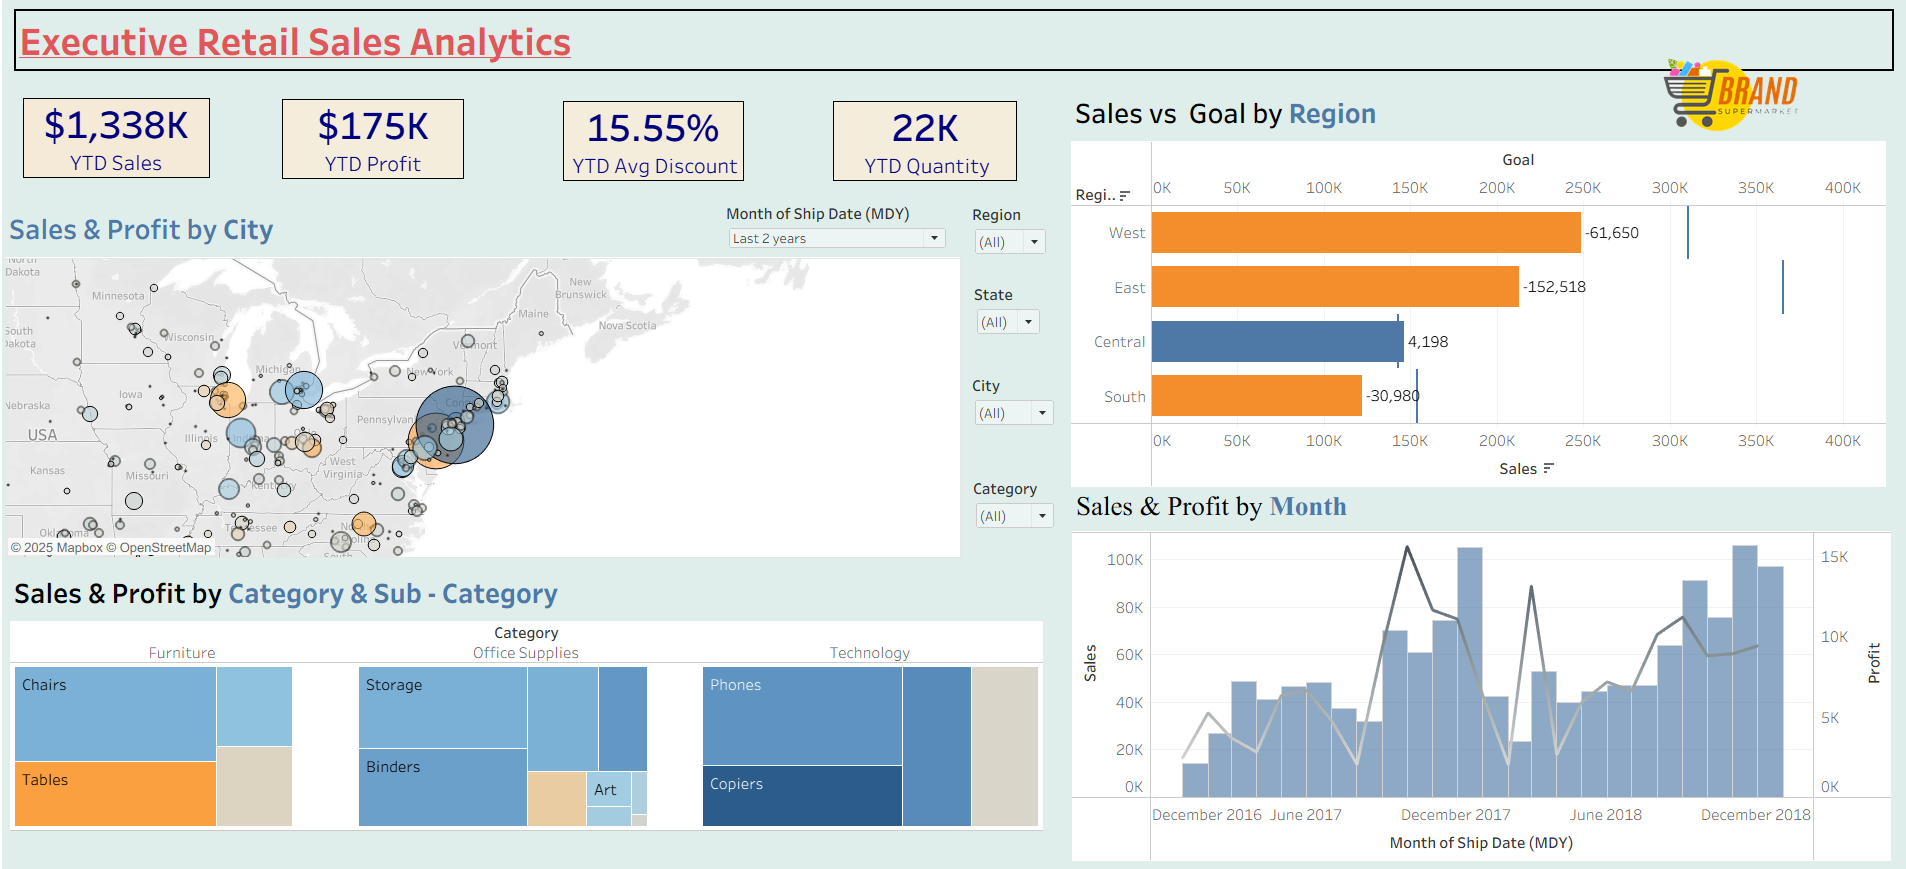

Layout of this report page (visuals, bound fields, positions):
{"tool":"tableau","page":{"name":"Dashboard 1","canvas":[1000,1000],"units":"permille","ordinal":0},"visuals":[{"type":"title","box":[4.8,10,990.3,87.4]},{"type":"image","param":"Image/supermarket-logo-template-with-shopping-cart_23-[number redacted].png","box":[826.8,13.7,163.6,194.8]},{"type":"worksheet","title":"Sales vs  Goal by Region","mark":"Automatic","rows":["Region"],"cols":["Sales","Goal"],"box":[561.3,106.1,428.5,453.2]},{"type":"worksheet","title":"Sheet 6","mark":"Automatic","box":[10.9,114.9,113.5,112.4]},{"type":"worksheet","title":"Sheet 6 (2)","mark":"Automatic","box":[147.2,116.1,111,103.6]},{"type":"worksheet","title":"YTD Avg Discound","mark":"Automatic","box":[294.5,118.6,109.8,101.1]},{"type":"worksheet","title":"Sheet 6 (3)","mark":"Automatic","box":[436.3,118.6,112.9,107.4]},{"type":"filter","title":"Sales & Profit by Month","param":"[federated.0hnb2jl033wxgv19xz3st11ub5jo].[tmn:Ship Date (MDY):qk]","box":[380.2,234.7,117.1,99.9]},{"type":"filter","title":"Sales vs  Goal by Region","param":"[federated.0hnb2jl033wxgv19xz3st11ub5jo].[none:Region:nk]","box":[509.4,236,40.4,79.9]},{"type":"worksheet","title":"Sales & Profit by City","mark":"Automatic","box":[1.8,238.5,502.1,402]},{"type":"filter","title":"Sales & Profit by City","param":"[federated.0hnb2jl033wxgv19xz3st11ub5jo].[none:State:nk]","box":[510.6,327.1,36.2,81.2]},{"type":"filter","title":"Sales & Profit by City","param":"[federated.0hnb2jl033wxgv19xz3st11ub5jo].[none:City:nk]","box":[509.4,432,44.7,92.4]},{"type":"filter","title":"Sales & Profit by Category & Sub - Category","param":"[federated.0hnb2jl033wxgv19xz3st11ub5jo].[none:Category:nk]","box":[510,549.3,44.1,94.9]},{"type":"worksheet","title":"Sales & Profit by Month","mark":"Automatic","rows":["Sales","Profit"],"cols":["Ship Date (MDY)"],"box":[561.9,559.3,430.9,427]},{"type":"worksheet","title":"Sales & Profit by Category & Sub - Category","mark":"Automatic","cols":["Category"],"box":[4.2,654.2,542.5,329.6]}]}

Visuals, with their boxes on the dashboard's canvas, which has no fixed pixel size, in thousandths of its width and height (x1, y1, x2, y2). These are canvas units, not pixel positions in the 1906x869 screenshot, which may show the page scaled, cropped or inside an application window:
title: [5, 10, 995, 97]
image: [827, 14, 990, 208]
"Sales vs  Goal by Region" worksheet: [561, 106, 990, 559]
"Sheet 6" worksheet: [11, 115, 124, 227]
"Sheet 6 (2)" worksheet: [147, 116, 258, 220]
"YTD Avg Discound" worksheet: [294, 119, 404, 220]
"Sheet 6 (3)" worksheet: [436, 119, 549, 226]
"Sales & Profit by Month" filter: [380, 235, 497, 335]
"Sales vs  Goal by Region" filter: [509, 236, 550, 316]
"Sales & Profit by City" worksheet: [2, 238, 504, 640]
"Sales & Profit by City" filter: [511, 327, 547, 408]
"Sales & Profit by City" filter: [509, 432, 554, 524]
"Sales & Profit by Category & Sub - Category" filter: [510, 549, 554, 644]
"Sales & Profit by Month" worksheet: [562, 559, 993, 986]
"Sales & Profit by Category & Sub - Category" worksheet: [4, 654, 547, 984]
